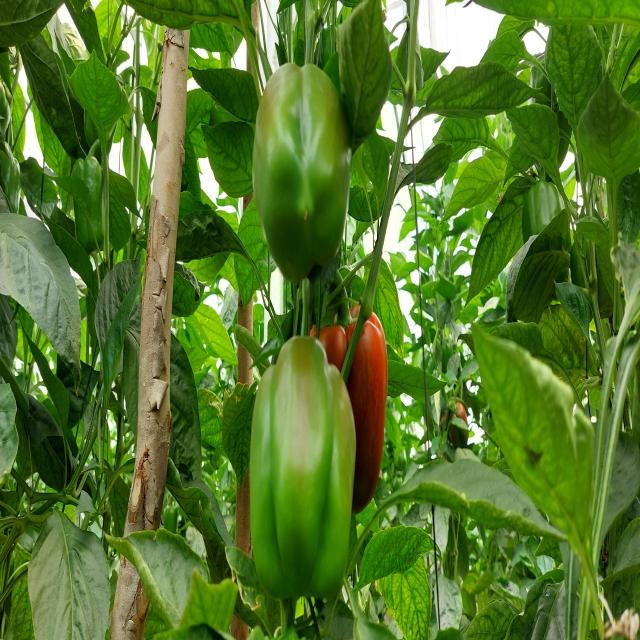Green--Not-ready-to-harvest: (250, 345, 355, 596), (255, 58, 351, 283), (520, 181, 559, 273)
Red-Ready-to-Harvest: (306, 316, 388, 514)
